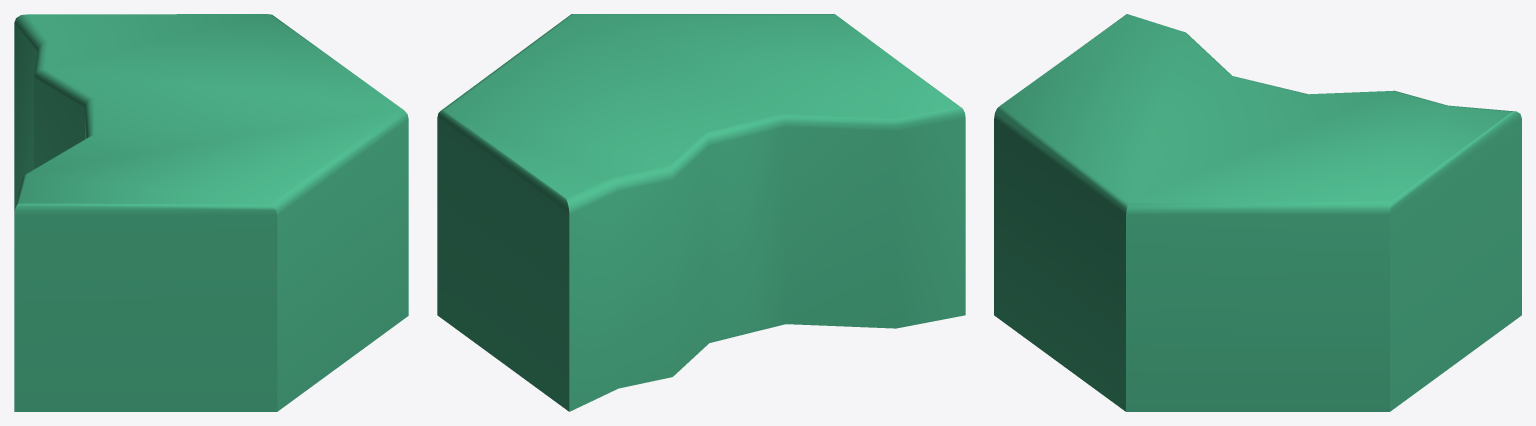
Rendered from hex_forest_waterD_empty.glb.
The picture shows the model from 3 angles, left to right: view 1: azimuth 30°, elevation 25°; view 2: azimuth 150°, elevation 25°; view 3: azimuth 270°, elevation 25°; orthographic projection.
Parts seen in each view (by area): view 1: hex_forest_waterD_empty; view 2: hex_forest_waterD_empty; view 3: hex_forest_waterD_empty.
Boxes of the visible parts, <box> form: hex_forest_waterD_empty: <box>14,14,408,411</box>; hex_forest_waterD_empty: <box>437,14,965,411</box>; hex_forest_waterD_empty: <box>994,14,1521,411</box>.
Size of the model in its own units: 2 by 1 by 2.31.
